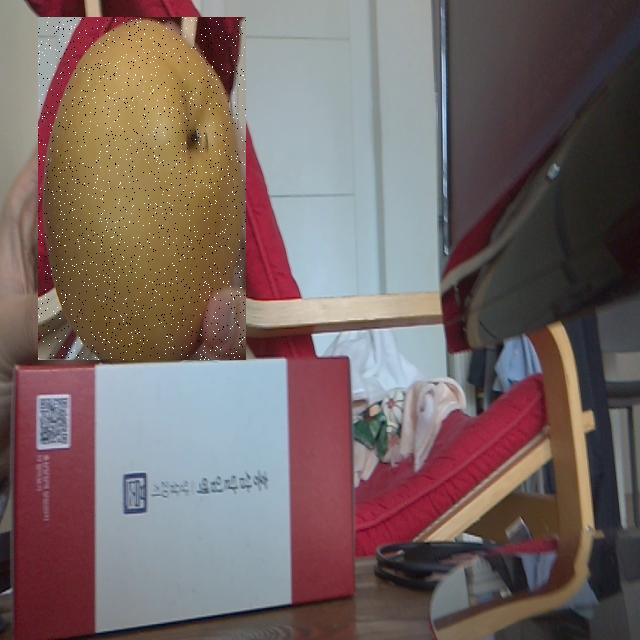pear: (38, 17, 246, 360)
